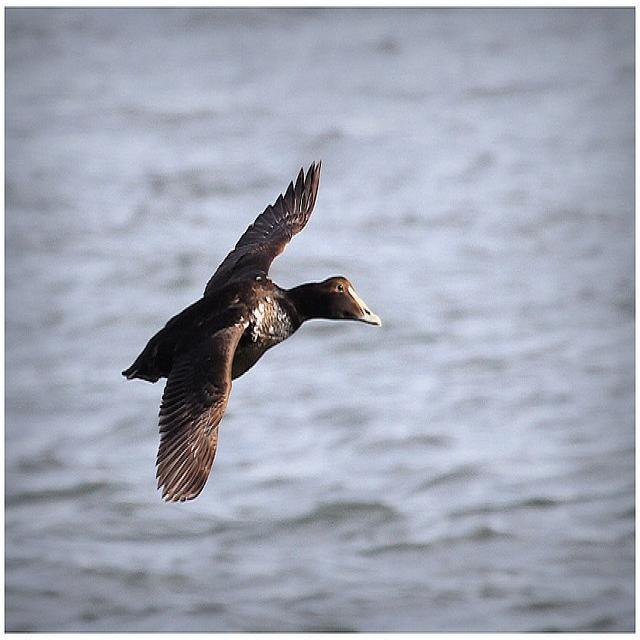bird: (111, 156, 386, 505)
